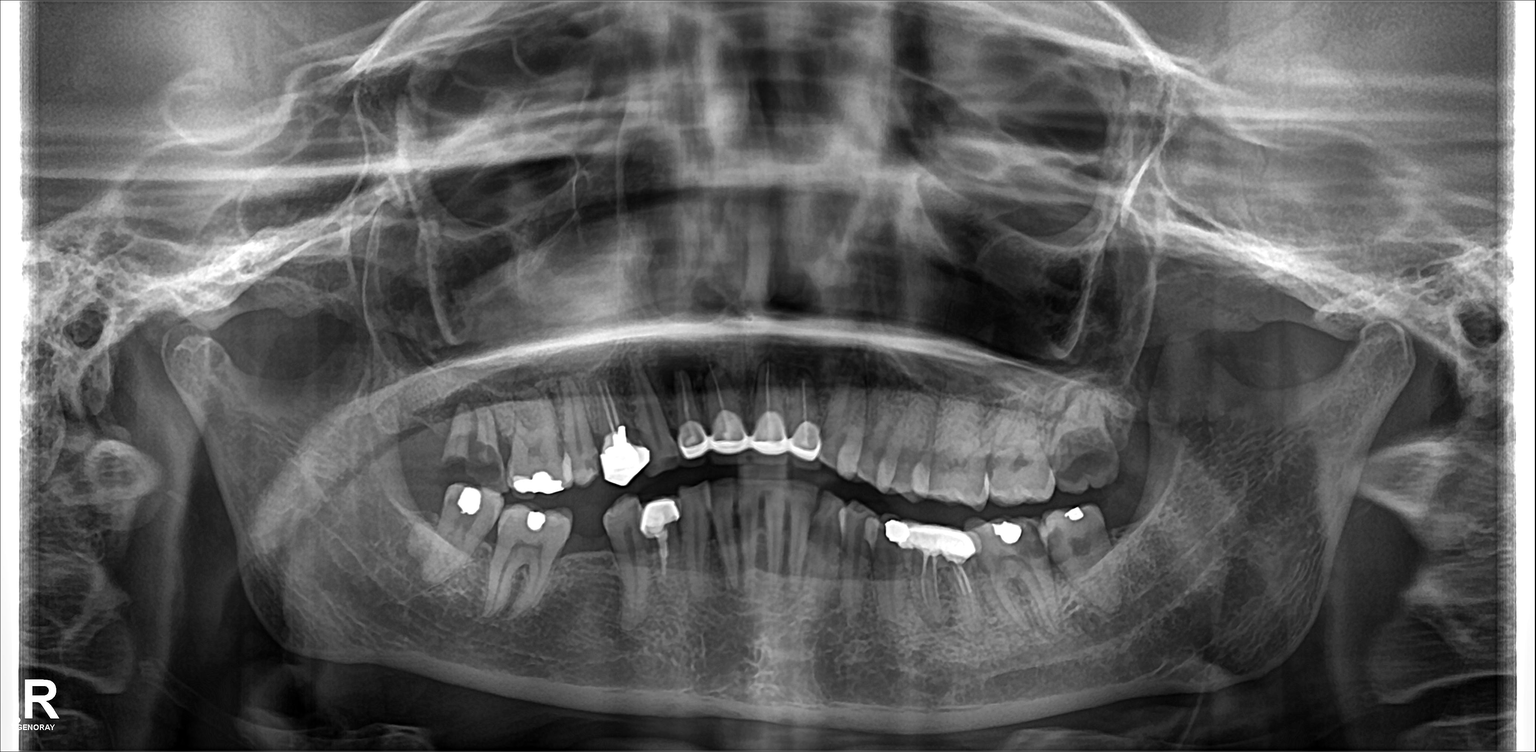Dental Caries: (473, 436, 504, 478), (445, 449, 483, 483)
Endodontically Treated Tooth: (594, 382, 645, 487), (901, 527, 942, 623), (939, 525, 974, 630), (791, 382, 821, 462), (752, 378, 784, 450), (680, 383, 708, 462), (715, 382, 740, 451)
Impacted Third Molar: (1050, 398, 1119, 490)
